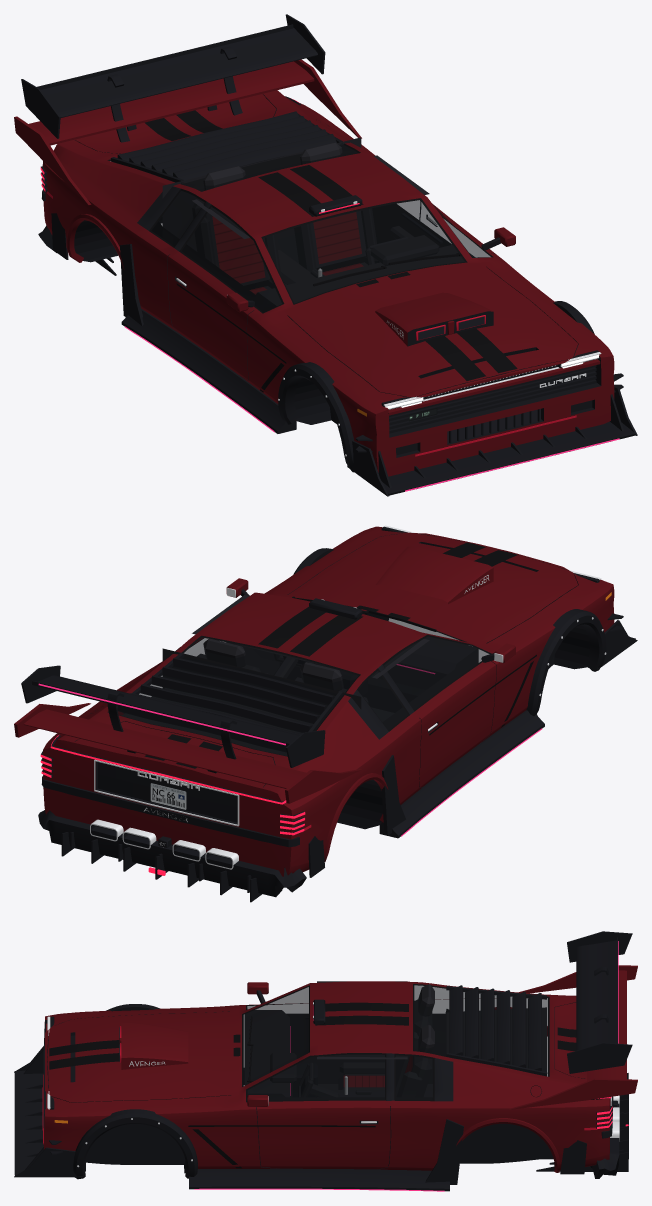
Rendered from car_type66.glb.
The picture shows the model from 3 angles, top to bottom: view 1: azimuth 30°, elevation 25°; view 2: azimuth 150°, elevation 25°; view 3: azimuth 270°, elevation 25°; orthographic projection. The views are drawn at different scales.
Visible parts, largest first — view 1: body, kit_1_parts, spoiler_2_parts, spoiler_1_parts, kit_0_parts; view 2: body, kit_1_parts, spoiler_1_parts, spoiler_2_parts, kit_0_parts; view 3: body, kit_1_parts, spoiler_2_parts, spoiler_1_parts, kit_0_parts.
Part boxes in pixels (x1,y1,x2,y2): body: (40, 90, 614, 476); kit_1_parts: (38, 220, 637, 496); spoiler_2_parts: (21, 14, 325, 142); spoiler_1_parts: (14, 59, 361, 204); kit_0_parts: (51, 213, 623, 487); body: (40, 525, 614, 876); kit_1_parts: (38, 613, 637, 902); spoiler_1_parts: (14, 703, 361, 803); spoiler_2_parts: (21, 665, 325, 767); kit_0_parts: (70, 667, 588, 892); body: (42, 981, 619, 1179); kit_1_parts: (14, 1009, 628, 1191); spoiler_2_parts: (567, 931, 632, 1073); spoiler_1_parts: (509, 965, 637, 1109); kit_0_parts: (23, 1050, 623, 1174).
Size of what is drawn, in the model's own units: 2.07 by 1.2 by 4.66.
11 materials, 1 textured.
